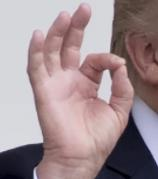left: (25, 1, 135, 159)
